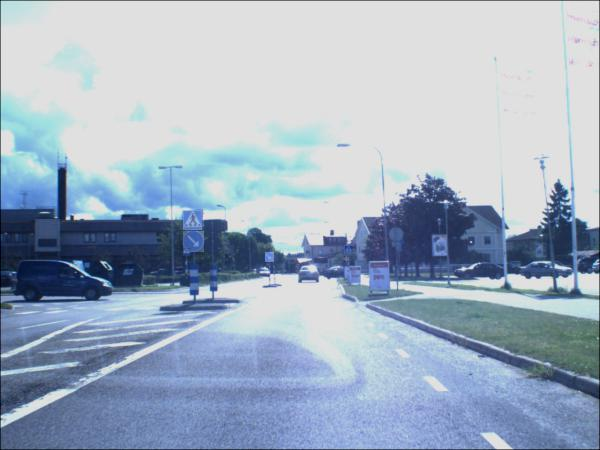PASS_RIGHT_SIDE: (184, 232, 206, 254), (267, 253, 277, 264)
PEDESTRIAN_CROSSING: (184, 211, 204, 232), (183, 249, 193, 257), (346, 247, 355, 254)
PRIORITY_ROAD: (345, 257, 350, 264)
